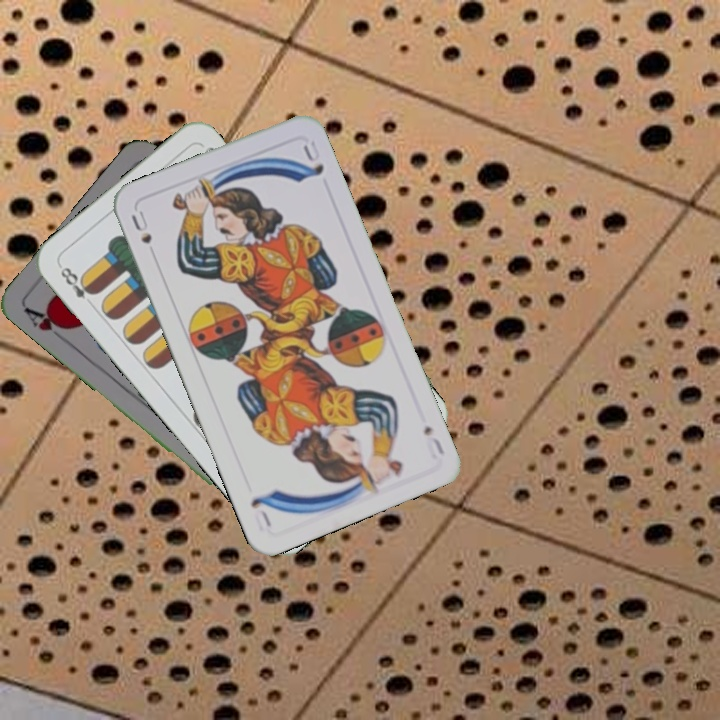E8: (55, 261, 99, 302)
HA: (20, 303, 73, 346)
SU: (127, 206, 155, 247), (419, 421, 447, 462)
